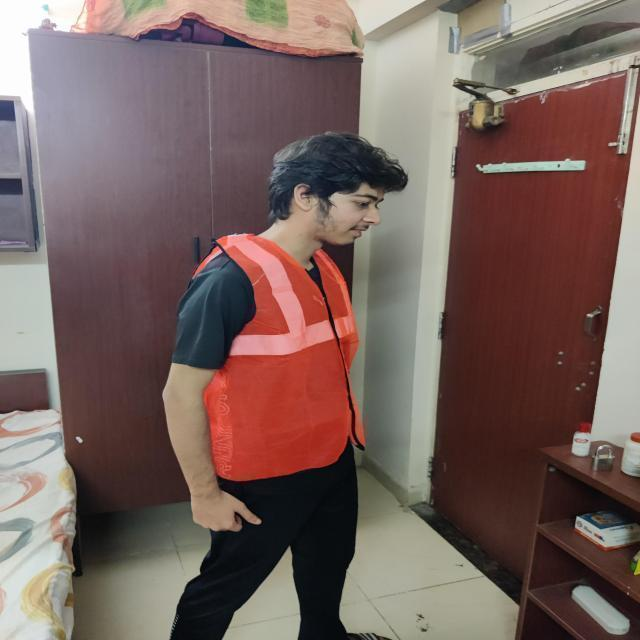no-helmet: (259, 130, 407, 212)
vest: (182, 229, 378, 487)
